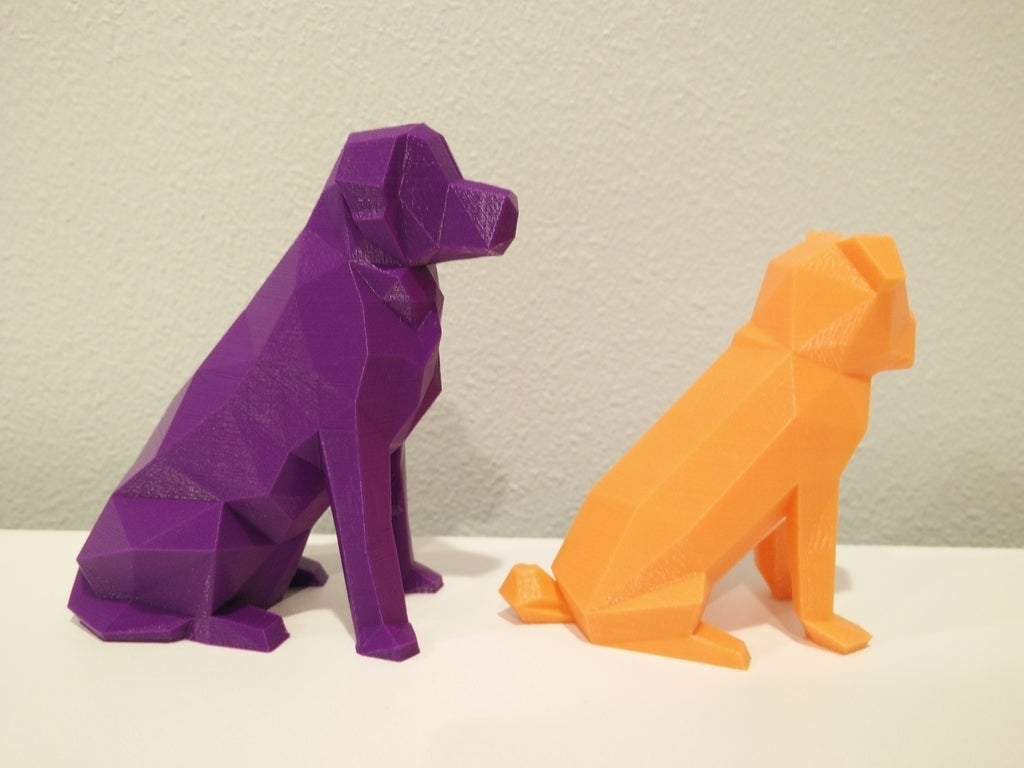Good: (48, 105, 935, 679)
